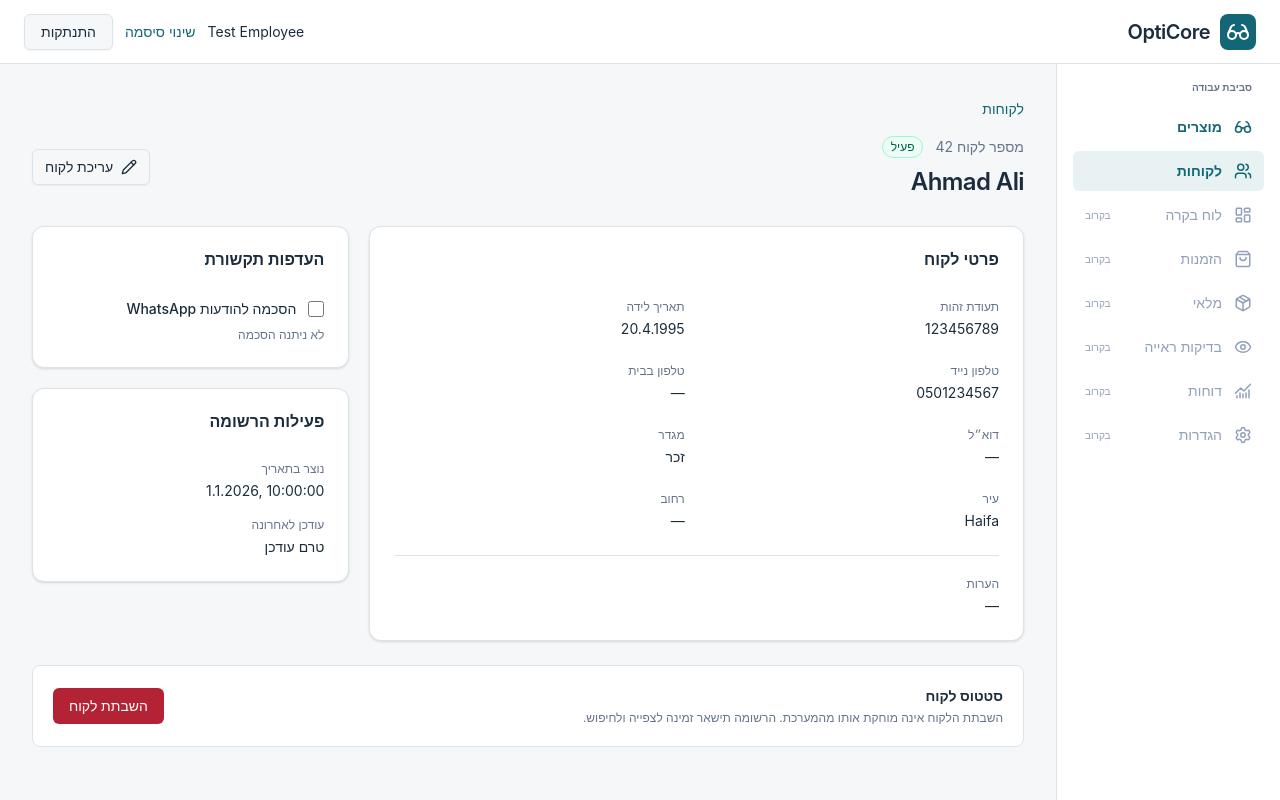
Scenario: customer workflows › requires confirmation and updates deactivated status
The width and height of the screenshot is (1280, 800).
Click the button "השבתת לקוח". click: {"x": 108, "y": 706}
box: [53, 688, 164, 724]
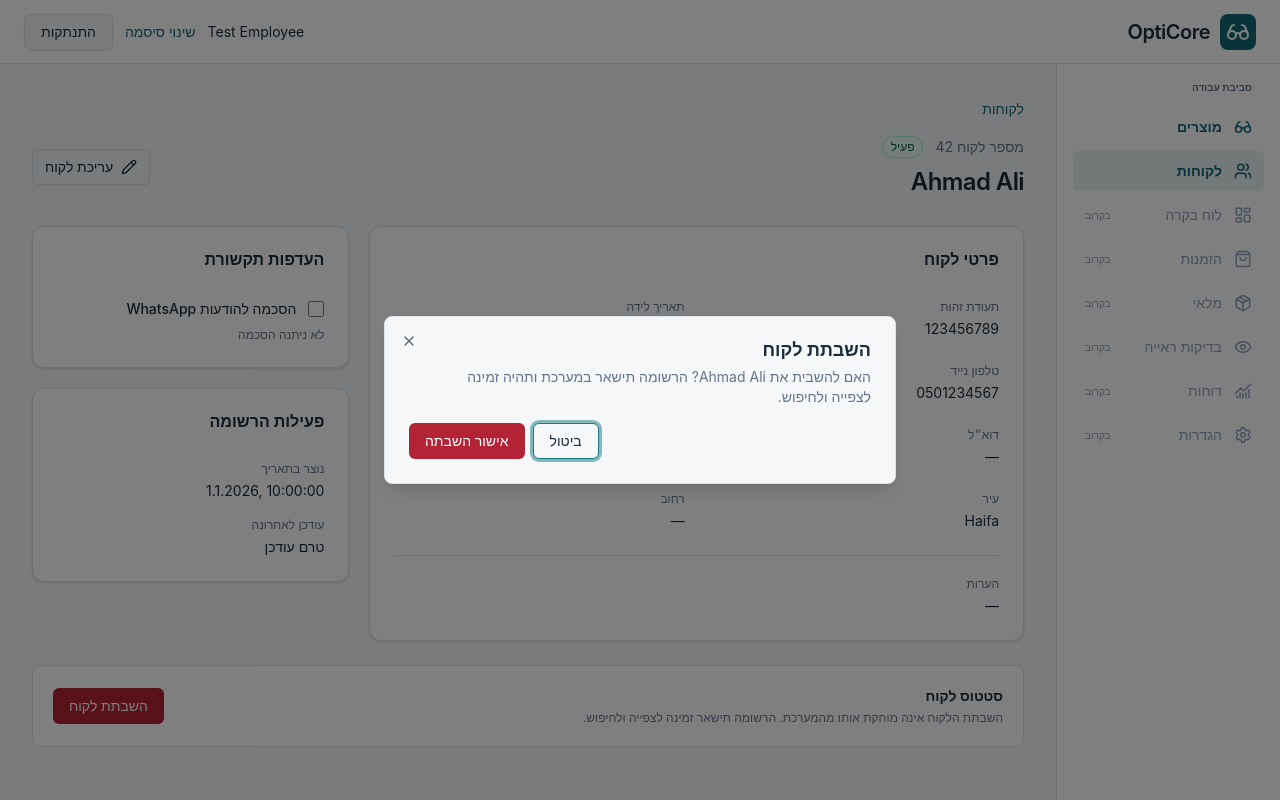
expect the dialog shows "הרשומה תישאר במערכת": met, box [467, 368, 871, 405]
Click the button "אישור השבתה". click: {"x": 467, "y": 441}
box: [409, 423, 524, 459]
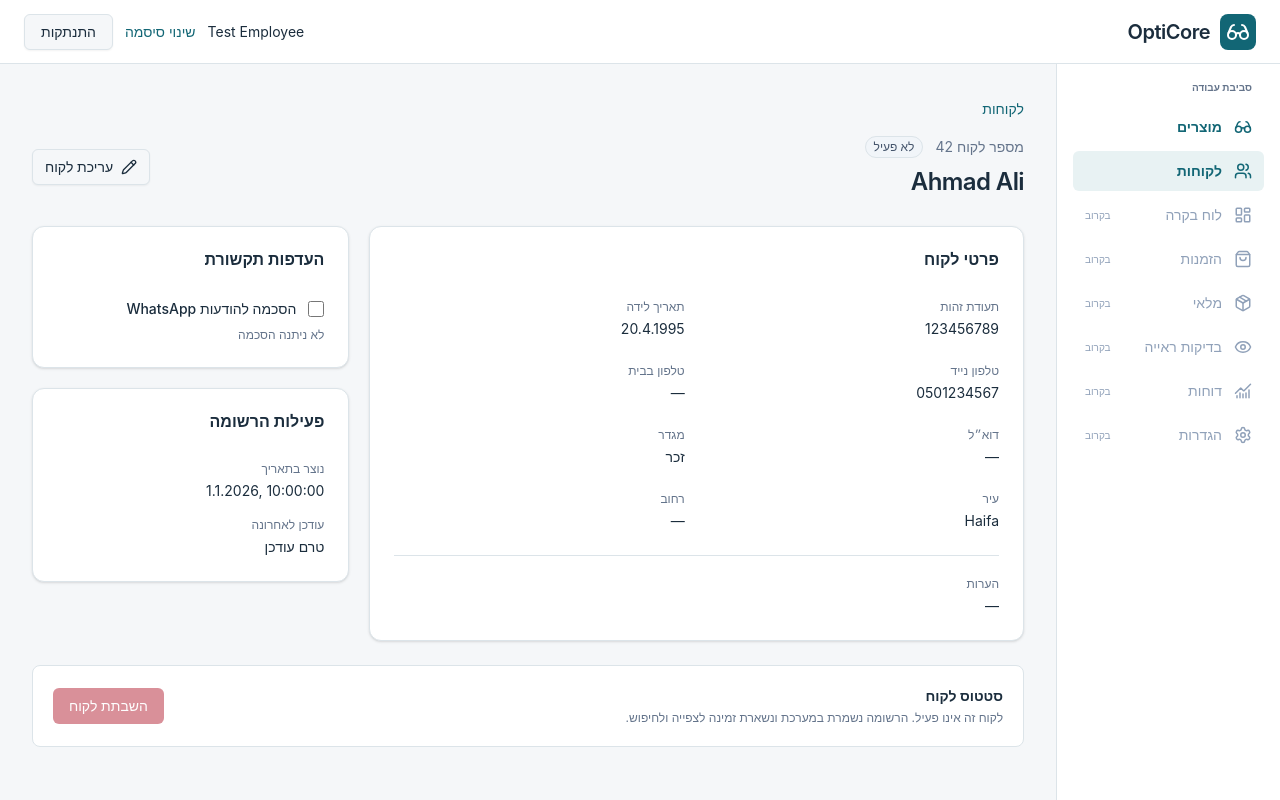
expect the text "לא פעיל" is shown: met, box [865, 136, 924, 158]
